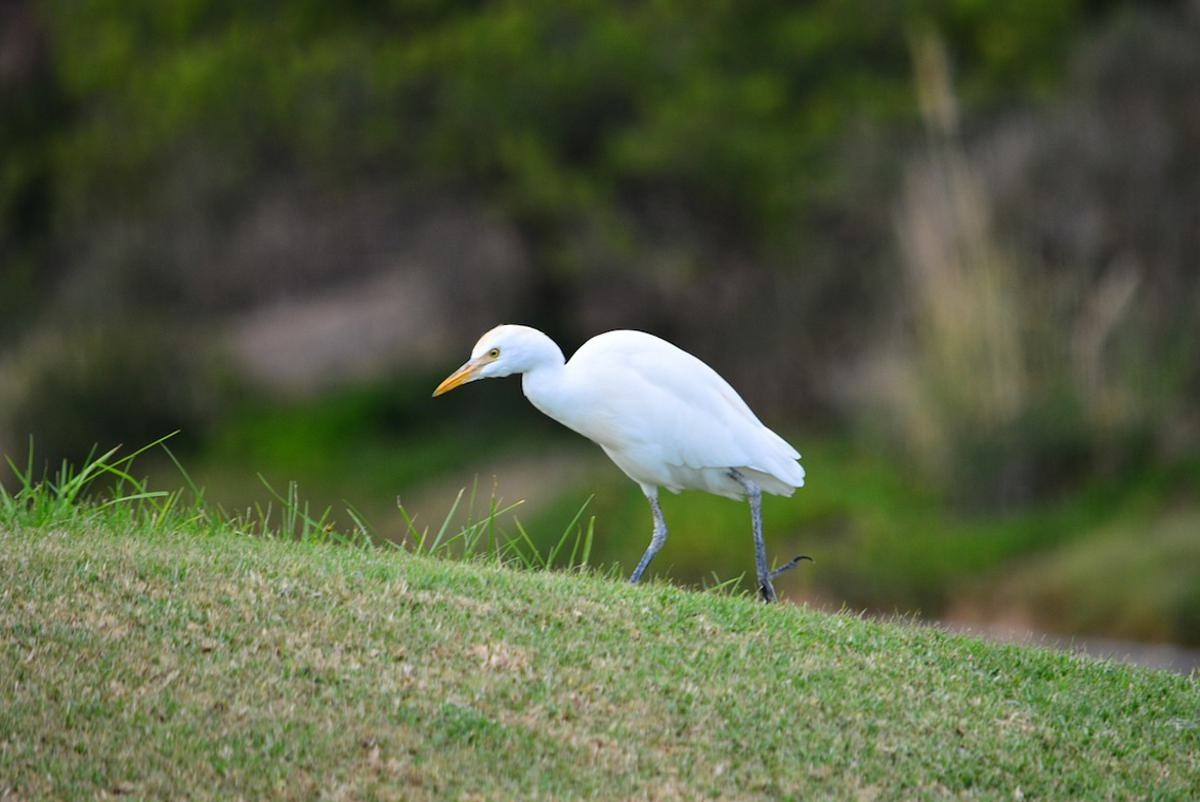egret: (430, 285, 872, 604)
